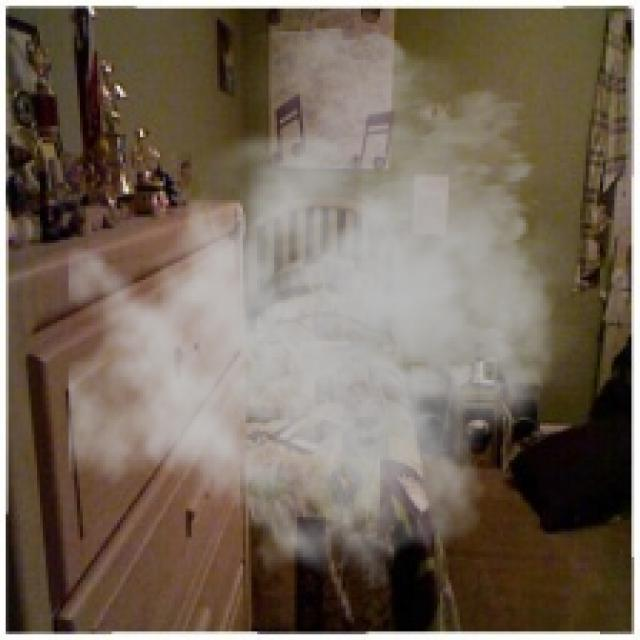smoke: (69, 26, 606, 591)
